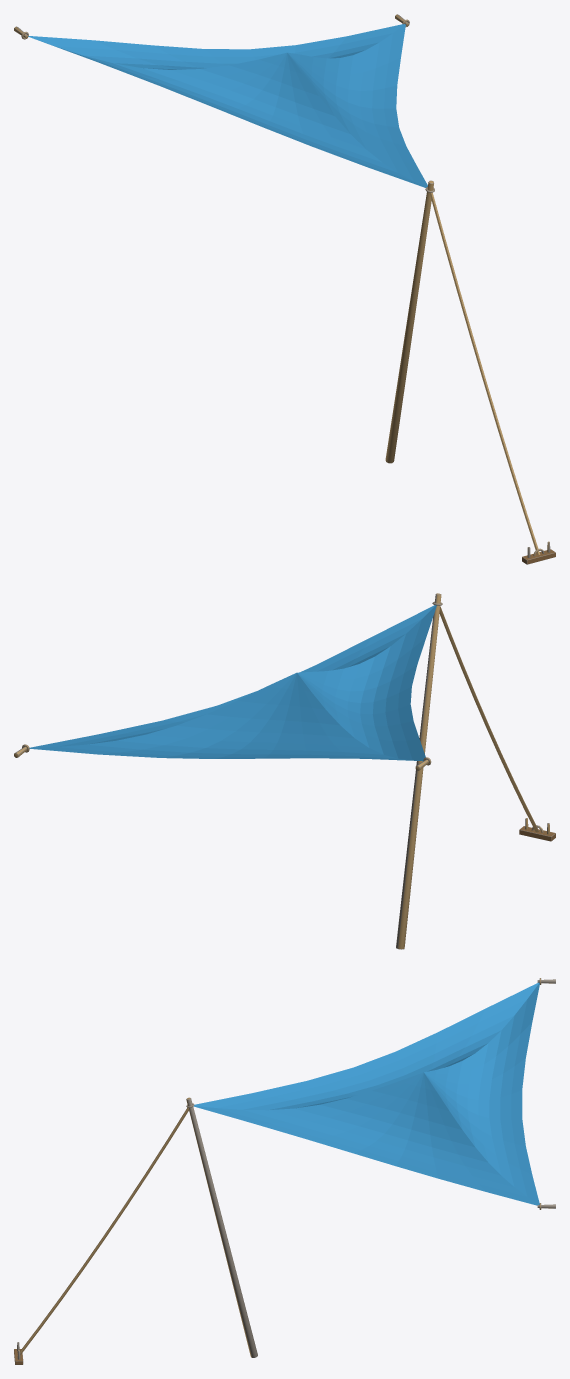
File: nomad_sail_wall_tri.fbx
The picture shows the model from 3 angles, top to bottom: view 1: azimuth 30°, elevation 25°; view 2: azimuth 150°, elevation 25°; view 3: azimuth 270°, elevation 25°; orthographic projection. The views are drawn at different scales.
Visible parts, largest first — view 1: S10_Canopy, S10_Mast_SailRig_MastPole, S10_Guy; view 2: S10_Canopy, S10_Mast_SailRig_MastPole, S10_Guy; view 3: S10_Canopy, S10_Mast_SailRig_MastPole, S10_Guy.
Part boxes in pixels (left/top/right/bottom): S10_Canopy: left=28, top=24, right=427, bottom=187; S10_Mast_SailRig_MastPole: left=385, top=180, right=434, bottom=463; S10_Guy: left=429, top=192, right=540, bottom=554; S10_Canopy: left=29, top=605, right=436, bottom=761; S10_Mast_SailRig_MastPole: left=396, top=593, right=442, bottom=949; S10_Guy: left=439, top=606, right=538, bottom=832; S10_Canopy: left=194, top=982, right=539, bottom=1205; S10_Mast_SailRig_MastPole: left=186, top=1097, right=257, bottom=1357; S10_Guy: left=17, top=1107, right=189, bottom=1354.
Size of the model in its own units: 403 by 350 by 577.
